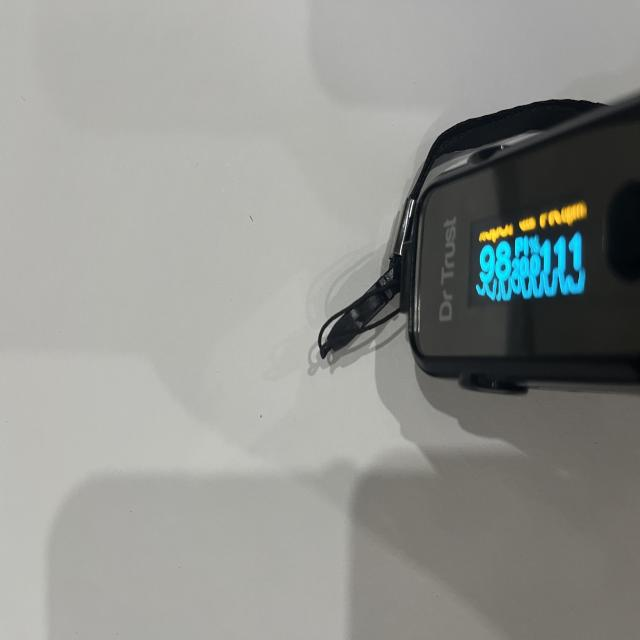spo2: (324, 94, 640, 392)
